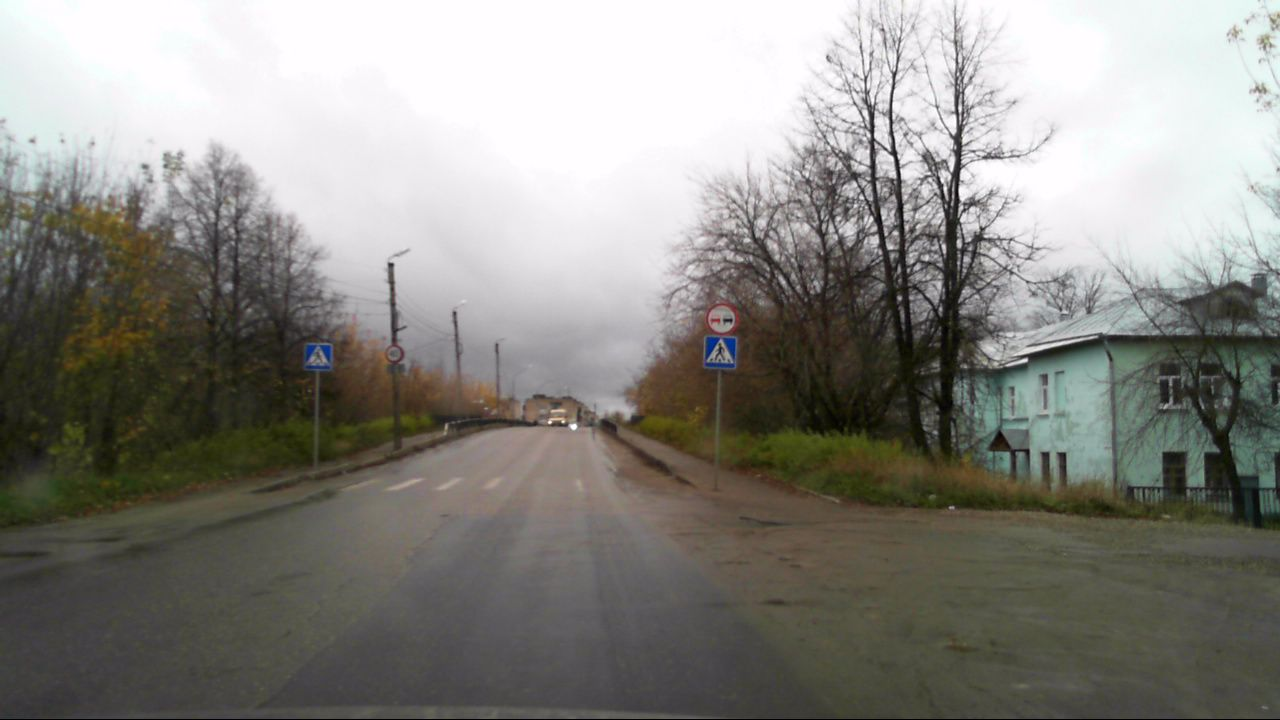speed_warning_40: (383, 343, 405, 363)
